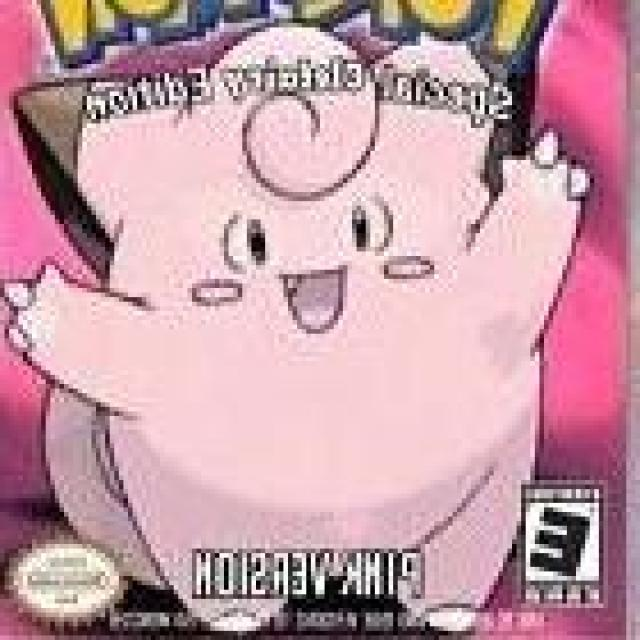Clefairy: (89, 33, 528, 611)
